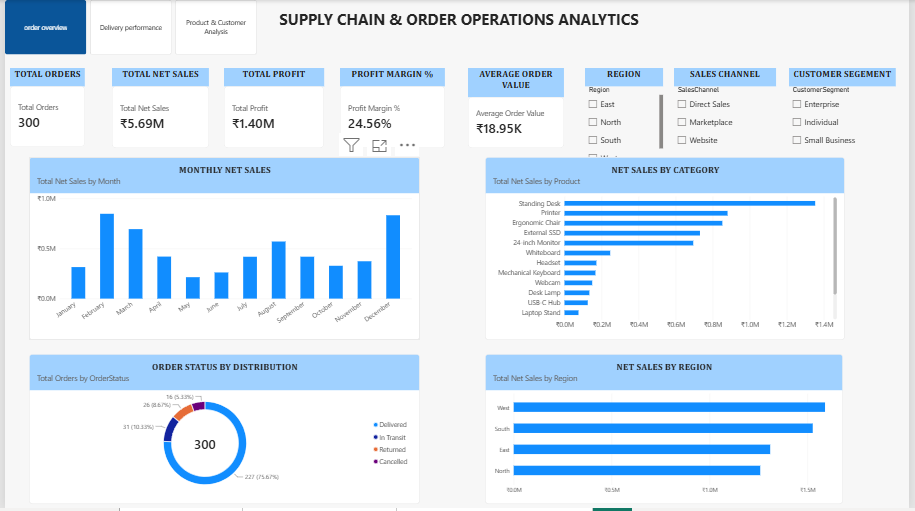

What the dashboard file says about the page in this screenshot:
{"tool":"powerbi","page":{"name":"order overview","canvas":[1920,1080],"ordinal":0},"visuals":[{"type":"textbox","box":[10,290,280,280],"z":1},{"type":"textbox","box":[10.6,19.1,1909.1,61.7],"z":2},{"type":"cardVisual","title":"TOTAL ORDERS","fields":{"Data":["TABLE.Total Orders"]},"box":[10.6,144.6,159.4,168],"z":3},{"type":"cardVisual","title":"TOTAL NET SALES","fields":{"Data":["TABLE.Total Net Sales"]},"box":[227.5,144.6,206.2,170.1],"z":4},{"type":"cardVisual","title":"TOTAL PROFIT","fields":{"Data":["TABLE.Total Profit"]},"box":[465.6,144.6,212.6,170.1],"z":5},{"type":"cardVisual","title":"PROFIT MARGIN %","fields":{"Data":["TABLE.Profit Margin %"]},"box":[712.2,144.6,223.2,170.1],"z":6},{"type":"cardVisual","title":"AVERAGE ORDER VALUE","fields":{"Data":["TABLE.Average Order Value"]},"box":[984.3,144.6,204.1,170.1],"z":7},{"type":"clusteredColumnChart","title":"MONTHLY NET SALES","fields":{"Category":["FactOrders.OrderDate.Variation.Date Hierarchy.Month"],"Y":["TABLE.Total Net Sales"]},"box":[51,333.8,831.3,389.1],"z":8},{"type":"clusteredBarChart","title":" NET SALES BY CATEGORY","fields":{"Category":["DimProduct.Product"],"Y":["TABLE.Total Net Sales"]},"box":[1020.5,333.8,765.4,389.1],"z":9},{"type":"donutChart","title":" ORDER STATUS BY DISTRIBUTION","fields":{"Category":["FactOrders.OrderStatus"],"Y":["TABLE.Total Orders"]},"box":[51,752.6,831.3,318.9],"z":10},{"type":"clusteredBarChart","title":"NET SALES BY REGION","fields":{"Category":["DimCustomer.Region"],"Y":["TABLE.Total Net Sales"]},"box":[1020.5,752.6,761.1,318.9],"z":11},{"type":"slicer","title":"REGION","fields":{"Values":["DimCustomer.Region"]},"box":[1233.1,144.6,165.8,189.2],"z":12},{"type":"slicer","title":"SALES CHANNEL","fields":{"Values":["FactOrders.SalesChannel"]},"box":[1422.3,144.6,216.9,189.2],"z":13},{"type":"slicer","title":"CUSTOMER SEGEMENT","fields":{"Values":["DimCustomer.CustomerSegment"]},"box":[1666.8,144.6,227.5,170.1],"z":14},{"type":"pageNavigator","box":[0,0,535.7,116.9],"z":15}]}

Visuals, with their boxes on the page's 1920x1080 design canvas (x1, y1, x2, y2). These are canvas units, not pixel positions in the 915x511 screenshot, which may show the page scaled, cropped or inside an application window:
textbox: [left=10, top=290, right=290, bottom=570]
textbox: [left=11, top=19, right=1920, bottom=81]
"TOTAL ORDERS" cardVisual: [left=11, top=145, right=170, bottom=313]
"TOTAL NET SALES" cardVisual: [left=228, top=145, right=434, bottom=315]
"TOTAL PROFIT" cardVisual: [left=466, top=145, right=678, bottom=315]
"PROFIT MARGIN %" cardVisual: [left=712, top=145, right=935, bottom=315]
"AVERAGE ORDER VALUE" cardVisual: [left=984, top=145, right=1188, bottom=315]
"MONTHLY NET SALES" clusteredColumnChart: [left=51, top=334, right=882, bottom=723]
" NET SALES BY CATEGORY" clusteredBarChart: [left=1020, top=334, right=1786, bottom=723]
" ORDER STATUS BY DISTRIBUTION" donutChart: [left=51, top=753, right=882, bottom=1072]
"NET SALES BY REGION" clusteredBarChart: [left=1020, top=753, right=1782, bottom=1072]
"REGION" slicer: [left=1233, top=145, right=1399, bottom=334]
"SALES CHANNEL" slicer: [left=1422, top=145, right=1639, bottom=334]
"CUSTOMER SEGEMENT" slicer: [left=1667, top=145, right=1894, bottom=315]
pageNavigator: [left=0, top=0, right=536, bottom=117]
